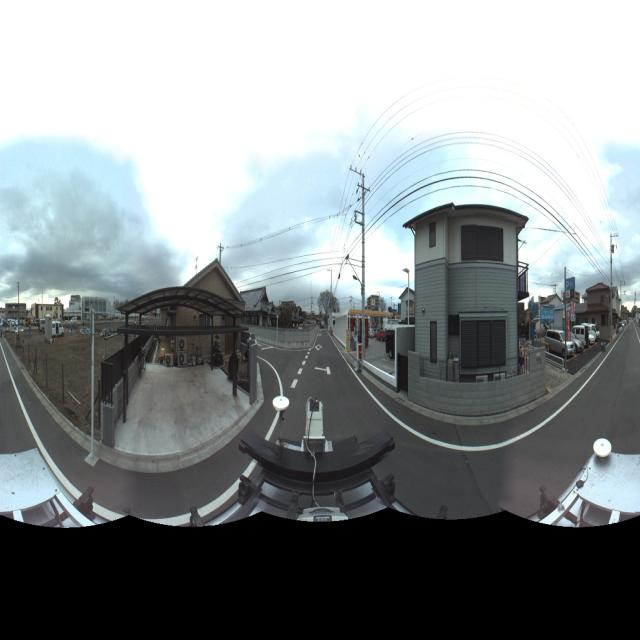b_1: (412, 193, 522, 381), (155, 246, 244, 376), (74, 282, 121, 336), (240, 278, 274, 352), (584, 281, 618, 339), (31, 290, 69, 332), (0, 297, 31, 331)
